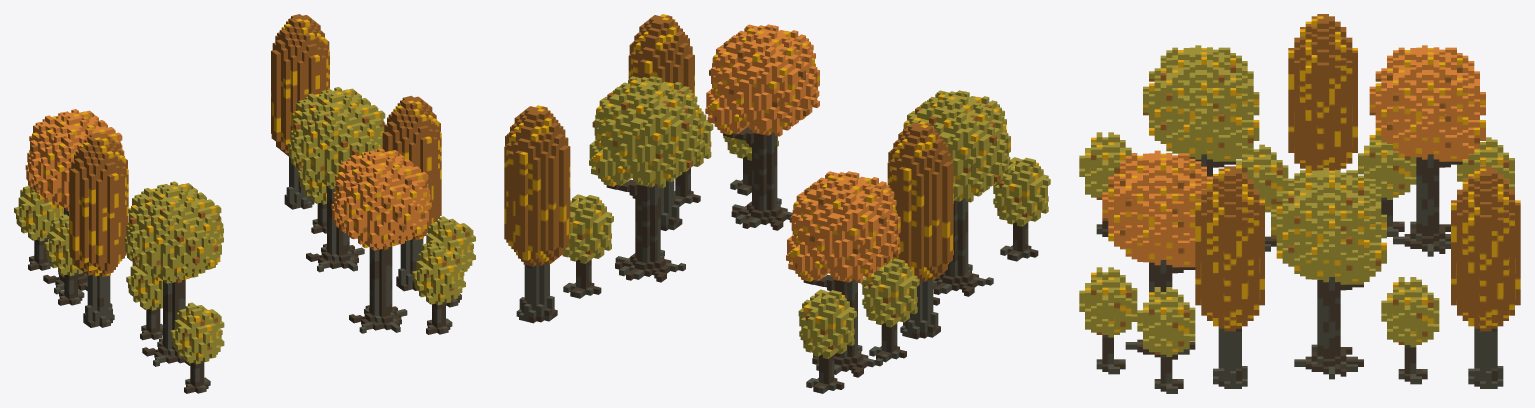
File: trees_8_overtile.glb
The picture shows the model from 3 angles, left to right: view 1: azimuth 30°, elevation 25°; view 2: azimuth 150°, elevation 25°; view 3: azimuth 270°, elevation 25°; orthographic projection. The views are drawn at different scales.
Parts seen in each view (by area): view 1: trees_8_overtile; view 2: trees_8_overtile; view 3: trees_8_overtile.
Boxes of the visible parts, box(x1,y1,x2,y2) form: trees_8_overtile: box(14, 14, 475, 393); trees_8_overtile: box(504, 14, 1050, 393); trees_8_overtile: box(1079, 14, 1520, 393).
Size of the model in its own units: 7.5 by 4 by 7.6.
1 material, 1 textured.
